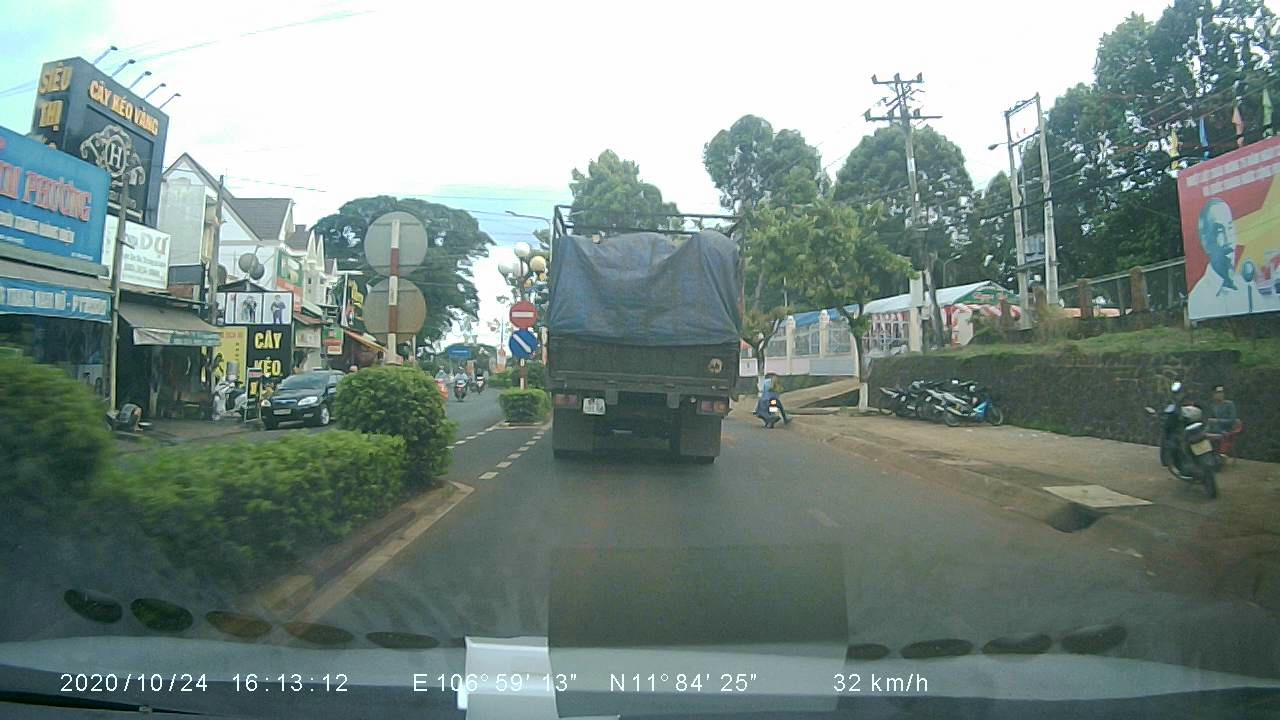Cam di nguoc chieu: (507, 299, 539, 330)
Huong di phai re phai: (504, 326, 542, 361)
